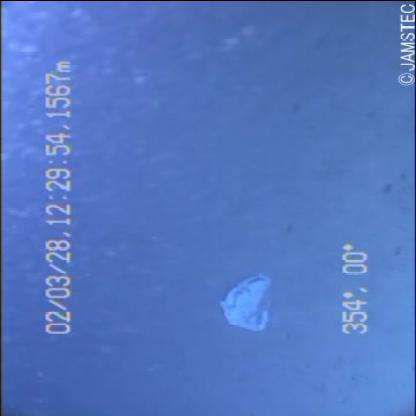Rác: (213, 249, 277, 345)
